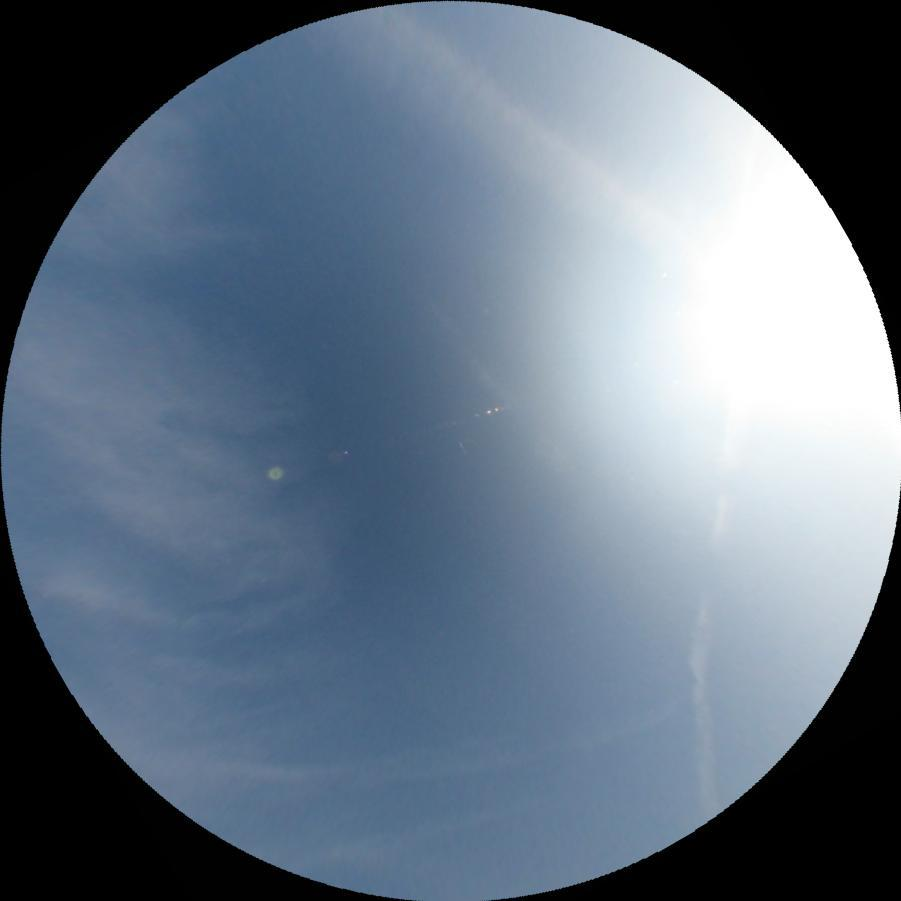contrail old: (681, 415, 735, 821)
contrail veryold: (234, 690, 687, 811)
sun: (645, 158, 901, 451)
